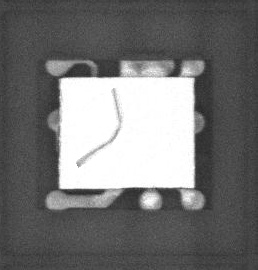DIE_INK: (73, 91, 118, 175)
